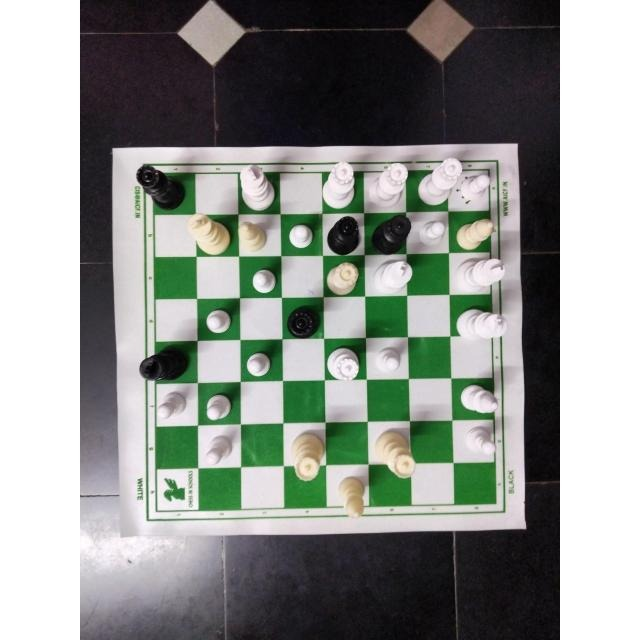black-king: (137, 344, 190, 380)
black-queen: (135, 165, 185, 209), (372, 213, 412, 250), (326, 215, 360, 254), (285, 305, 321, 339)
white-bishop: (338, 477, 367, 521), (457, 216, 495, 249), (458, 384, 497, 415), (236, 221, 270, 253)
white-king: (452, 256, 504, 294), (186, 214, 231, 256), (457, 307, 509, 343), (238, 166, 277, 212), (373, 259, 411, 294)
white-pawn: (464, 425, 497, 459), (157, 390, 189, 420), (204, 434, 235, 463), (462, 172, 493, 201), (246, 348, 274, 380), (203, 307, 233, 336), (376, 345, 406, 374), (419, 220, 448, 250), (286, 221, 317, 249), (250, 267, 278, 295), (206, 393, 234, 421)
white-queen: (373, 429, 419, 479), (418, 158, 462, 207), (367, 163, 410, 209), (289, 431, 326, 483), (322, 161, 356, 210), (325, 347, 363, 381), (325, 259, 359, 295)
